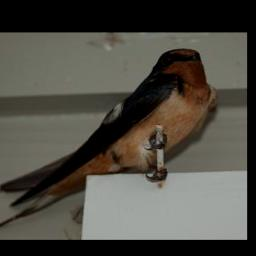Swallow: (0, 47, 210, 230)
